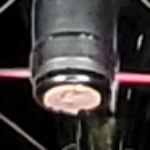bottle: (19, 47, 130, 129)
